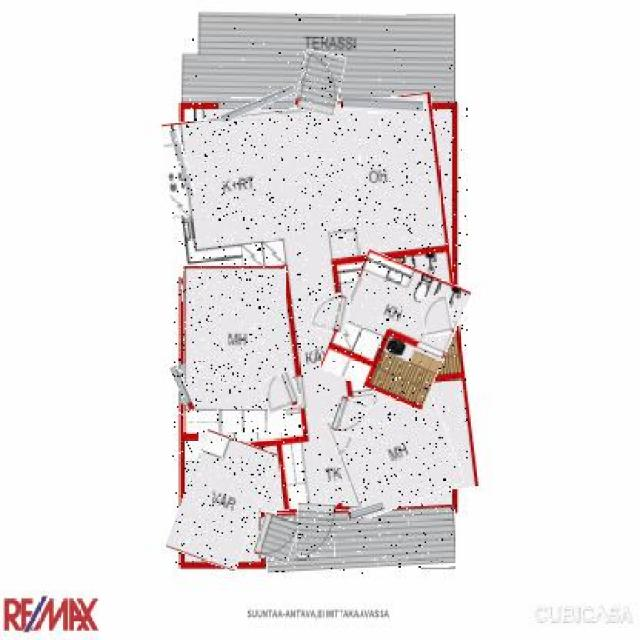door: (297, 51, 343, 114), (297, 505, 335, 557), (255, 516, 297, 562), (312, 292, 350, 332), (262, 372, 298, 412), (332, 397, 366, 435), (422, 295, 452, 337)
window: (218, 92, 298, 116), (340, 98, 423, 114), (174, 129, 191, 200), (174, 365, 191, 412), (348, 503, 384, 517)
zone: (172, 102, 468, 510), (181, 12, 454, 100), (331, 258, 460, 402), (183, 266, 286, 432), (335, 392, 457, 511), (266, 508, 456, 574), (175, 434, 268, 568)
